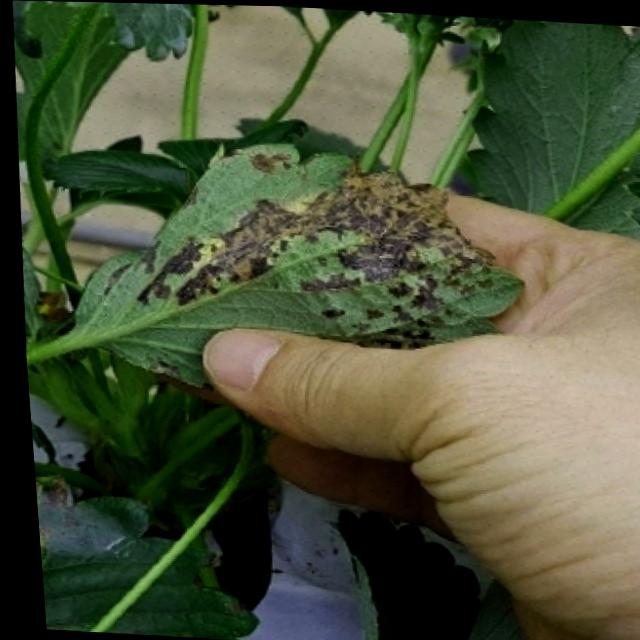Angular Leafspot: (63, 137, 524, 390)
